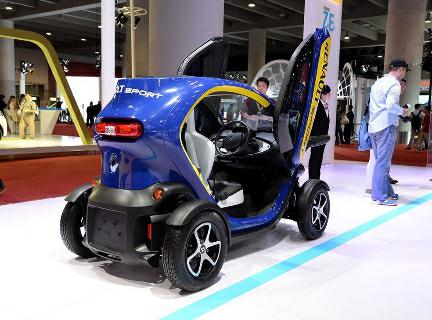雷诺-Twizy: (54, 69, 341, 295)
